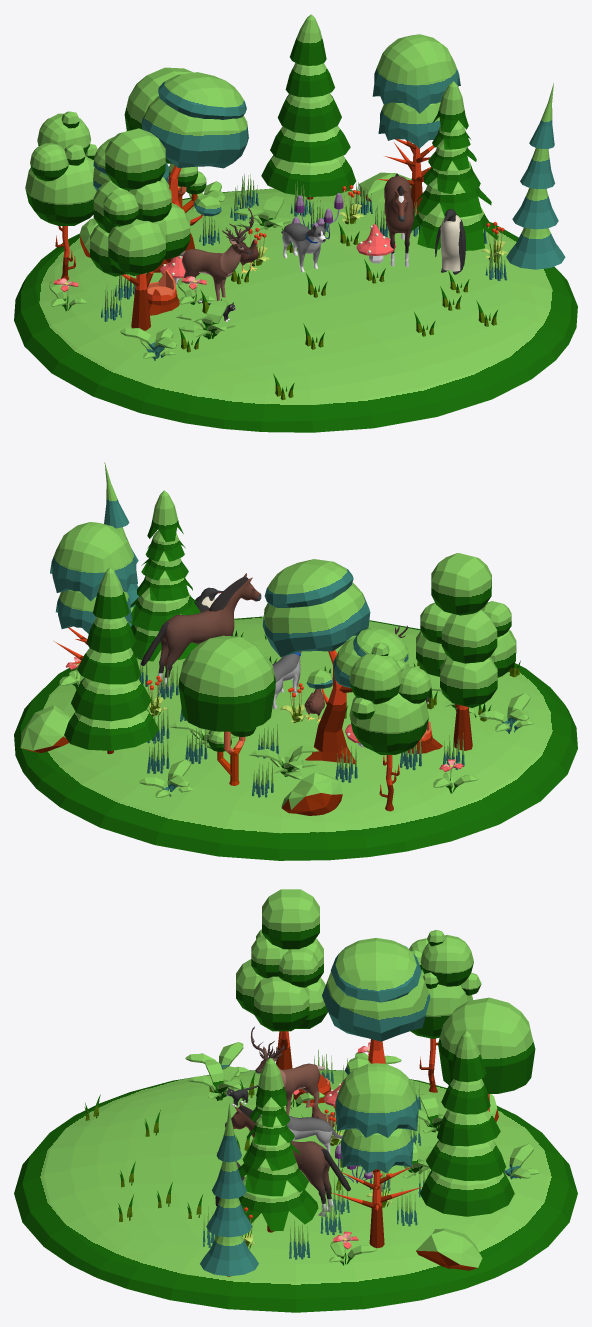
File: diorama-scene2.glb
3 renders of one model, top to bottom at view 1: azimuth 30°, elevation 25°; view 2: azimuth 150°, elevation 25°; view 3: azimuth 270°, elevation 25°, orthographic.
Visible parts, largest first — view 1: Tree.078, Tree.082, Tree.035, Tree.083, Tree.086, Tree.085, Tree.081, Tree.087, Tree.084, Deer_001, Horse_001, Pinguin_001 (+10 smaller); view 2: Tree.078, Tree.083, Tree.082, Tree.035, Tree.084, Tree.081, Tree.086, Tree.085, Horse_001, Tree.102, Tree.101, Tree.109 (+5 smaller); view 3: Tree.078, Tree.082, Tree.035, Tree.083, Tree.086, Tree.085, Tree.084, Tree.081, Tree.087, Horse_001, Tree.101, Deer_001 (+7 smaller).
Part boxes in pixels (x1,y1,x2,y2): Tree.078: (14, 188, 577, 432); Tree.082: (90, 128, 190, 330); Tree.035: (261, 14, 356, 199); Tree.083: (93, 72, 248, 272); Tree.086: (372, 34, 460, 216); Tree.085: (404, 81, 498, 250); Tree.081: (25, 111, 97, 280); Tree.087: (506, 83, 565, 269); Tree.084: (124, 67, 206, 212); Deer_001: (179, 208, 254, 300); Horse_001: (384, 173, 413, 267); Pinguin_001: (435, 209, 465, 274); Tree.078: (14, 616, 577, 860); Tree.083: (262, 559, 408, 764); Tree.082: (416, 553, 516, 750); Tree.035: (64, 567, 158, 754); Tree.084: (178, 635, 275, 785); Tree.081: (349, 642, 431, 811); Tree.086: (50, 522, 137, 663); Tree.085: (129, 490, 200, 665); Horse_001: (140, 573, 261, 690); Tree.102: (281, 772, 342, 815); Tree.101: (20, 705, 71, 752); Tree.109: (249, 745, 318, 779); Tree.078: (14, 1069, 577, 1312); Tree.082: (236, 889, 327, 1069); Tree.035: (420, 1031, 514, 1216); Tree.083: (322, 938, 430, 1074); Tree.086: (331, 1063, 422, 1248); Tree.085: (238, 1058, 318, 1232); Tree.084: (438, 997, 535, 1111); Tree.081: (409, 930, 481, 1092); Tree.087: (200, 1103, 258, 1276); Horse_001: (225, 1102, 350, 1216); Tree.101: (416, 1228, 482, 1270); Deer_001: (251, 1026, 325, 1115).
Bounding box in the file's own units: 31.77 × 13.73 × 31.77.
7 materials, 7 textured.
